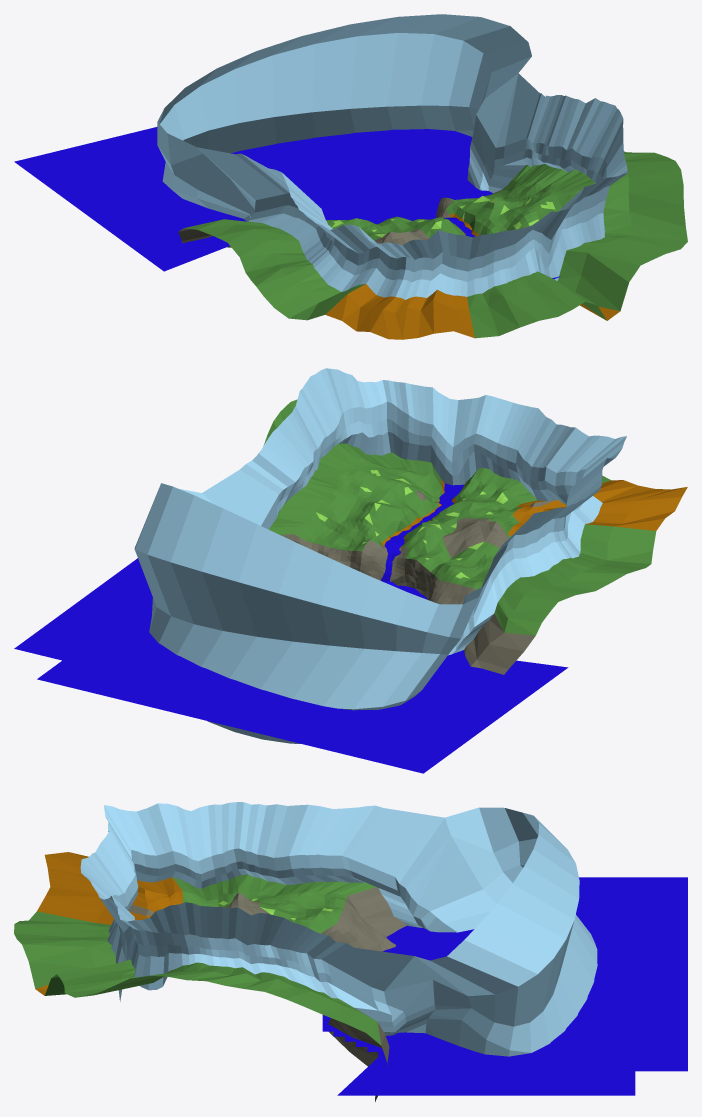
Rendered from maa2.glb.
3 views of the same model, one above another, from view 1: azimuth 30°, elevation 25°; view 2: azimuth 150°, elevation 25°; view 3: azimuth 270°, elevation 25° (orthographic). The views are drawn at different scales.
Visible parts, largest first — view 1: Udu, maa, vesi, muru; view 2: Udu, maa, vesi, muru; view 3: Udu, vesi, maa.
Part boxes in pixels (box(x1,y1,x2,y2)): Udu: box(157, 14, 627, 299); maa: box(178, 151, 687, 339); vesi: box(14, 127, 560, 278); muru: box(331, 184, 555, 237); Udu: box(134, 368, 626, 743); maa: box(258, 399, 687, 674); vesi: box(14, 483, 568, 773); muru: box(316, 470, 507, 578); Udu: box(80, 802, 597, 1056); vesi: box(322, 877, 687, 1095); maa: box(14, 852, 406, 1101).
Size of the model in its own units: 635 by 277 by 829.
